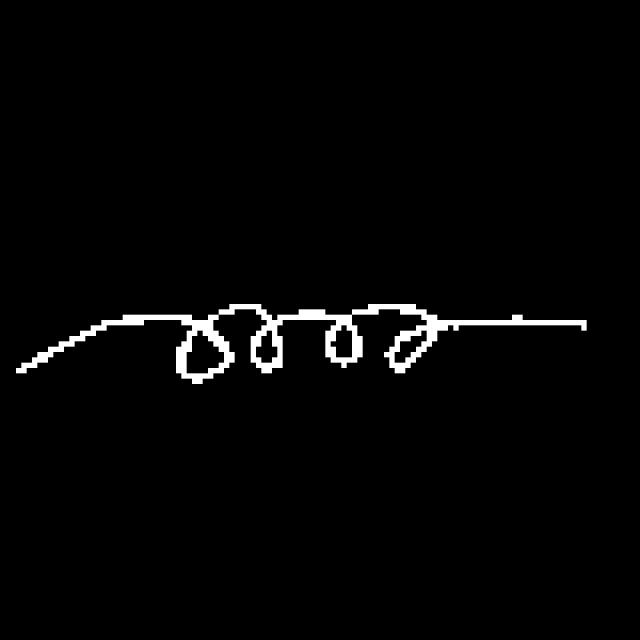inductor: (120, 270, 470, 410)
